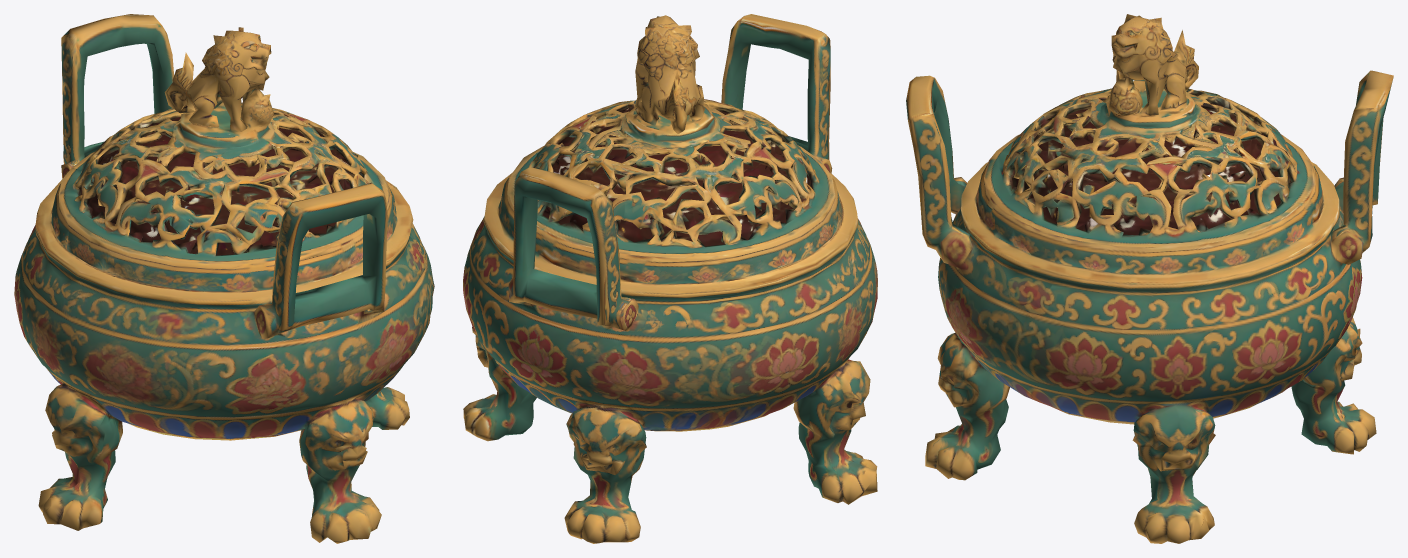
File: censer.glb
The picture shows the model from 3 angles, left to right: view 1: azimuth 30°, elevation 25°; view 2: azimuth 150°, elevation 25°; view 3: azimuth 270°, elevation 25°; orthographic projection.
Parts seen in each view (by area): view 1: tripo_node_f6f4a793-107b-48bf-905b-0273221b134f; view 2: tripo_node_f6f4a793-107b-48bf-905b-0273221b134f; view 3: tripo_node_f6f4a793-107b-48bf-905b-0273221b134f.
Boxes of the visible parts, box(x1,y1,x2,y2) form: tripo_node_f6f4a793-107b-48bf-905b-0273221b134f: box(14, 14, 434, 543); tripo_node_f6f4a793-107b-48bf-905b-0273221b134f: box(463, 14, 877, 543); tripo_node_f6f4a793-107b-48bf-905b-0273221b134f: box(906, 14, 1393, 543).
Bounding box in the file's own units: 0.9244 × 1 × 0.9986.
1 material, 1 textured.
